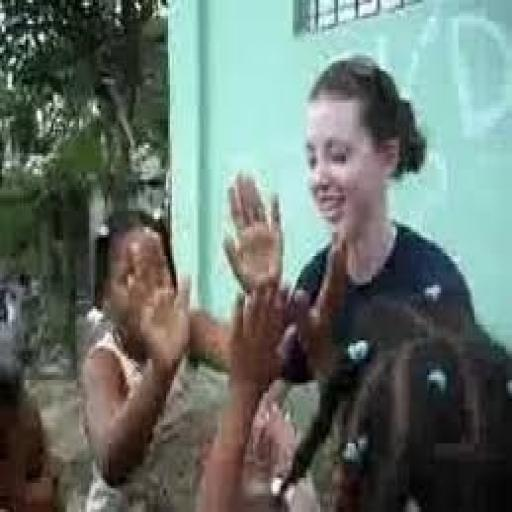clapping: (196, 53, 508, 509)
